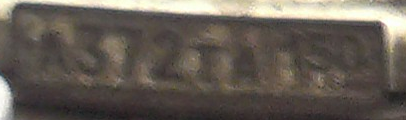character: (108, 20, 143, 78), (190, 32, 226, 88), (148, 26, 181, 85), (31, 32, 71, 78), (73, 18, 104, 76), (229, 35, 261, 90), (335, 25, 366, 77), (305, 26, 334, 75), (282, 28, 303, 76)
